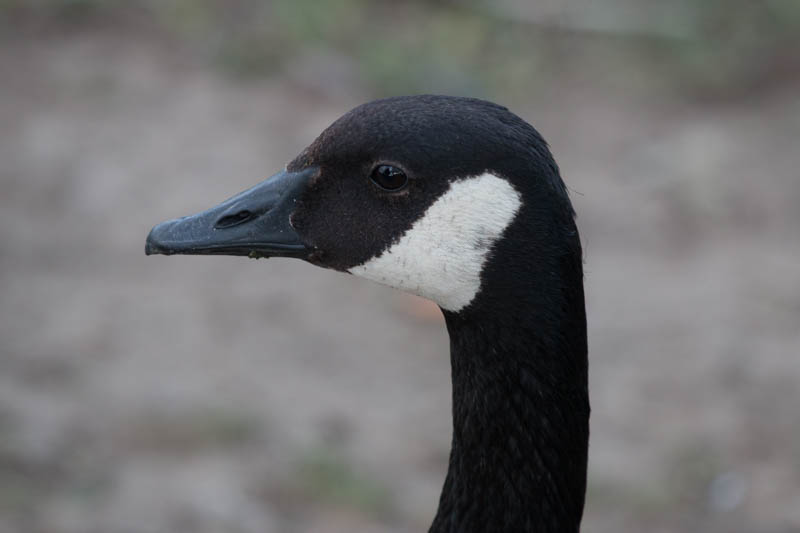goose-head: (143, 93, 585, 315)
